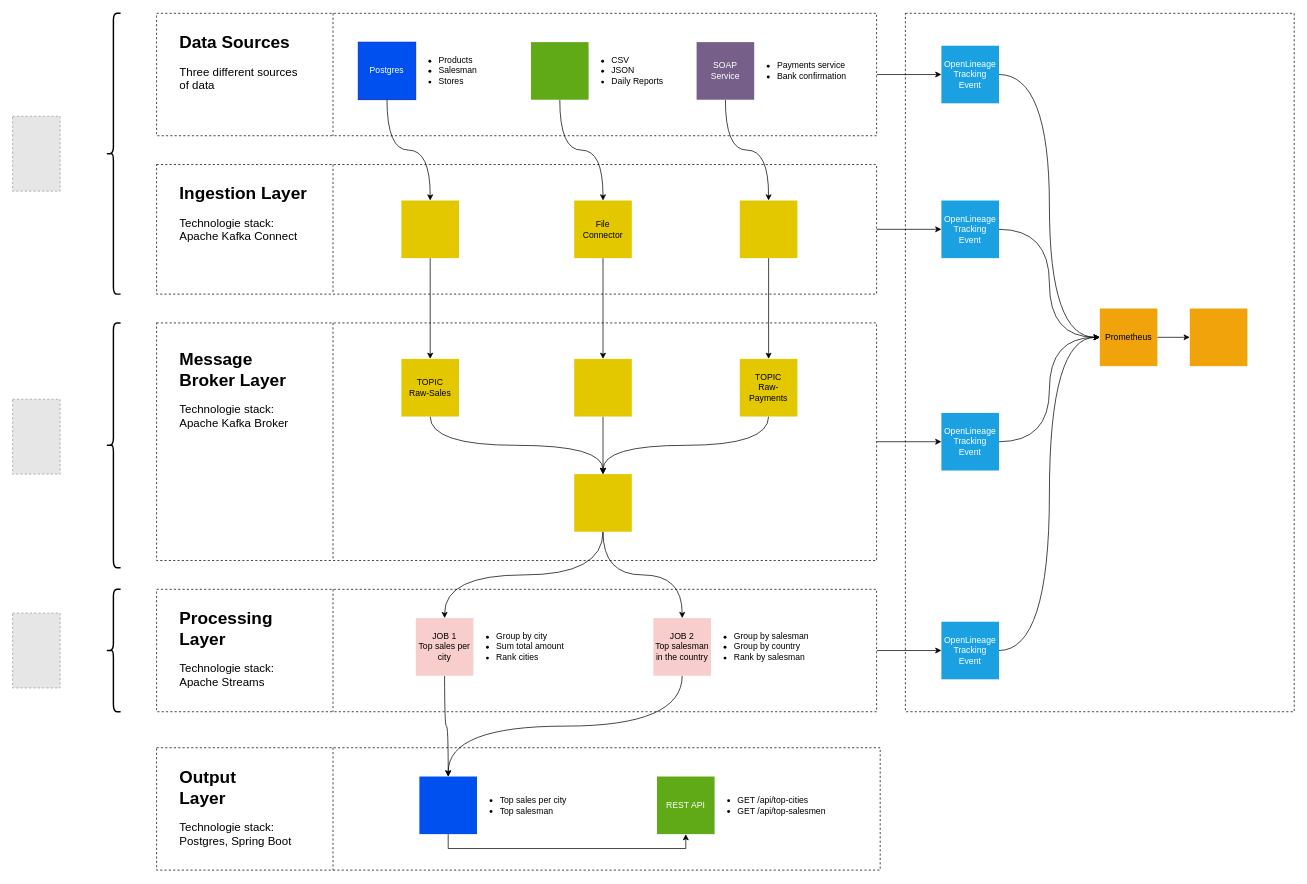
Image size: 1307x884. Some labels were removed from this diagram. Grey dashed boxes stand in for pictures. The shapes that lost their labels are listed below. From the top down, each one's box as (x1, y1, x2, y2) in pixels, then its label:
(531, 42, 588, 99): S3 bucket
(401, 200, 459, 258): JDBC Connector
(739, 200, 797, 258): HTTP Connector
(1189, 308, 1247, 366): Graphana Dashboard
(574, 359, 631, 416): TOPIC Raw-Files
(574, 474, 631, 531): TOPIC Unified Sales
(419, 776, 477, 834): Database
